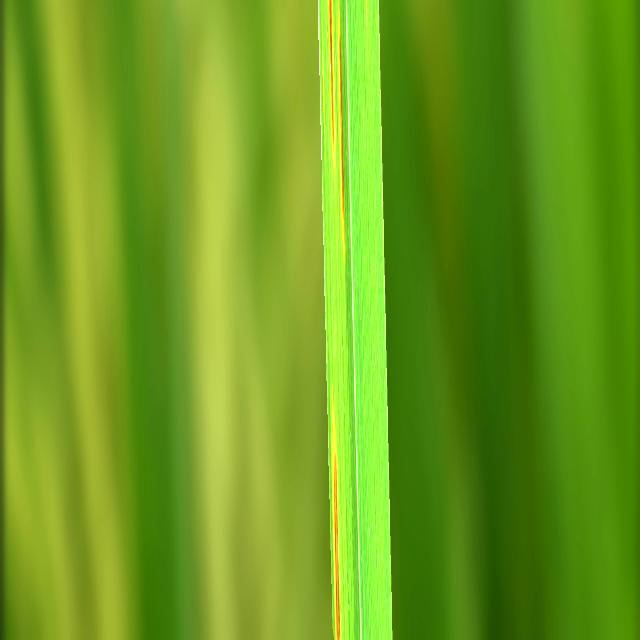NBS: (338, 10, 345, 253), (333, 435, 340, 638), (327, 0, 335, 160)
